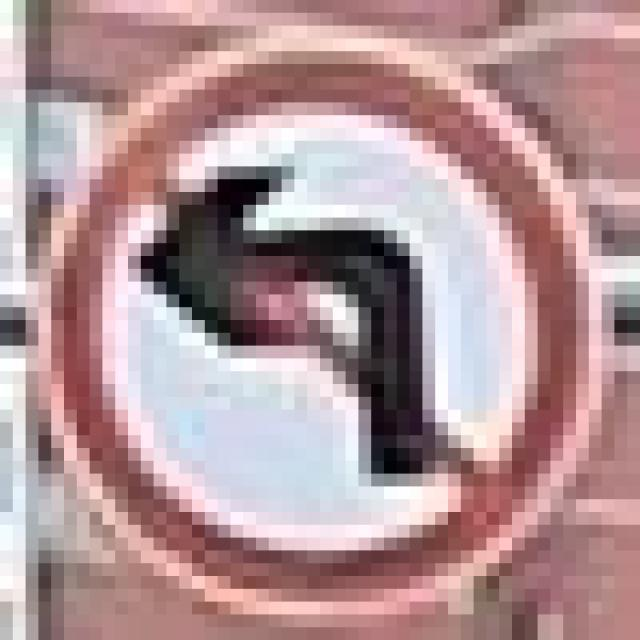left turn prohibited: (37, 28, 615, 617)
